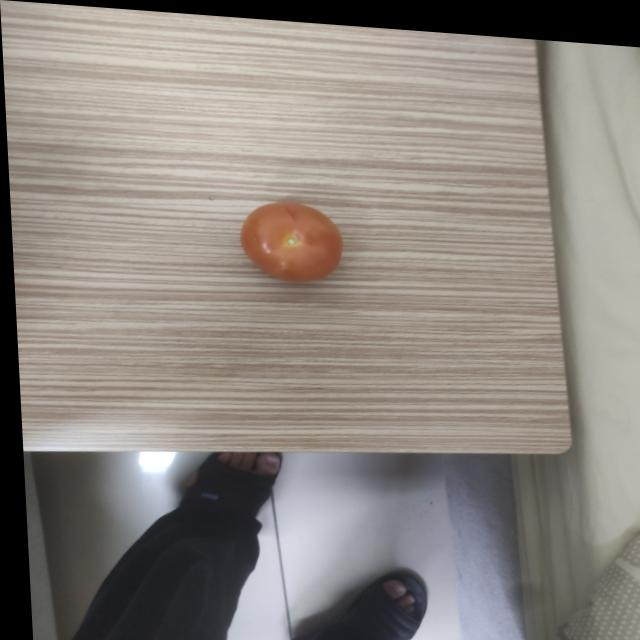sari: (230, 186, 359, 289)
